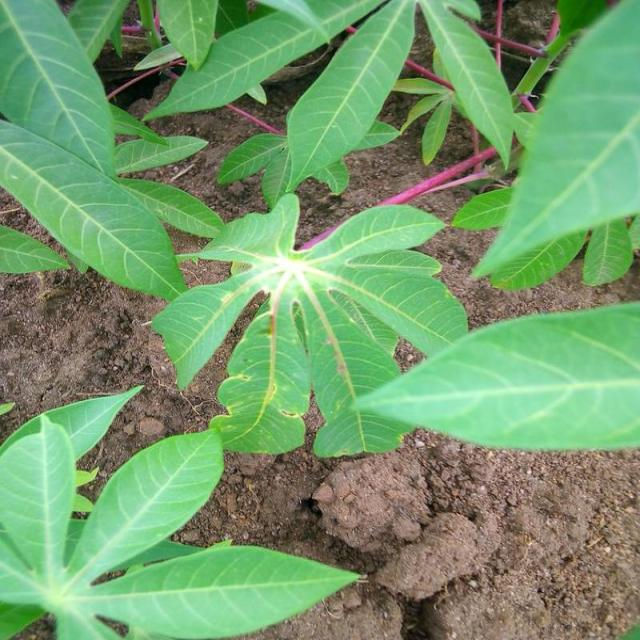cassava leaf: (1, 384, 368, 638), (147, 191, 470, 458), (468, 0, 640, 291), (352, 299, 640, 453), (2, 116, 188, 301), (286, 0, 418, 195)
